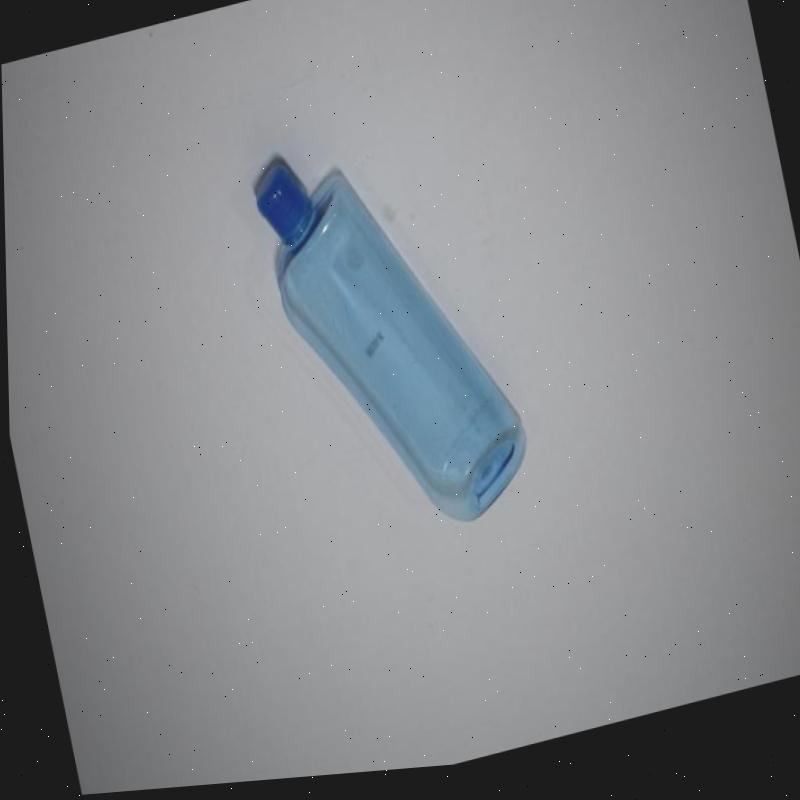botella: (248, 114, 540, 566)
